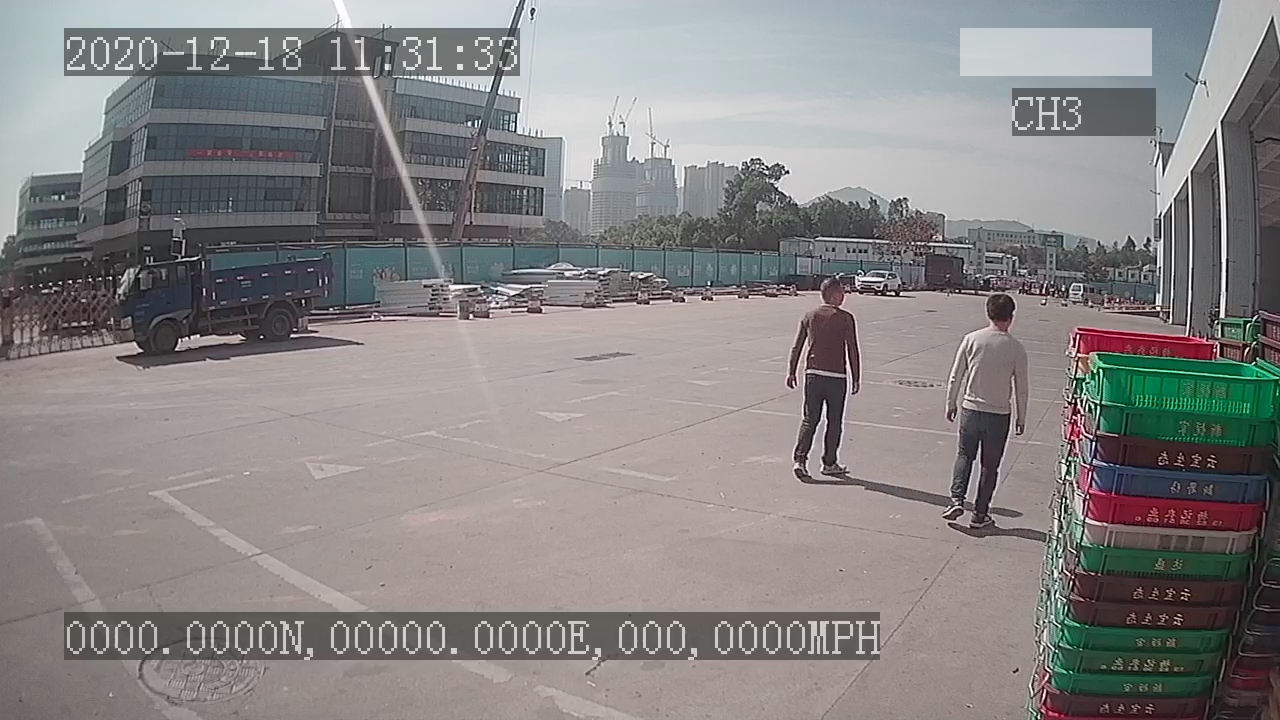person: (941, 283, 1034, 534), (786, 271, 861, 481)
